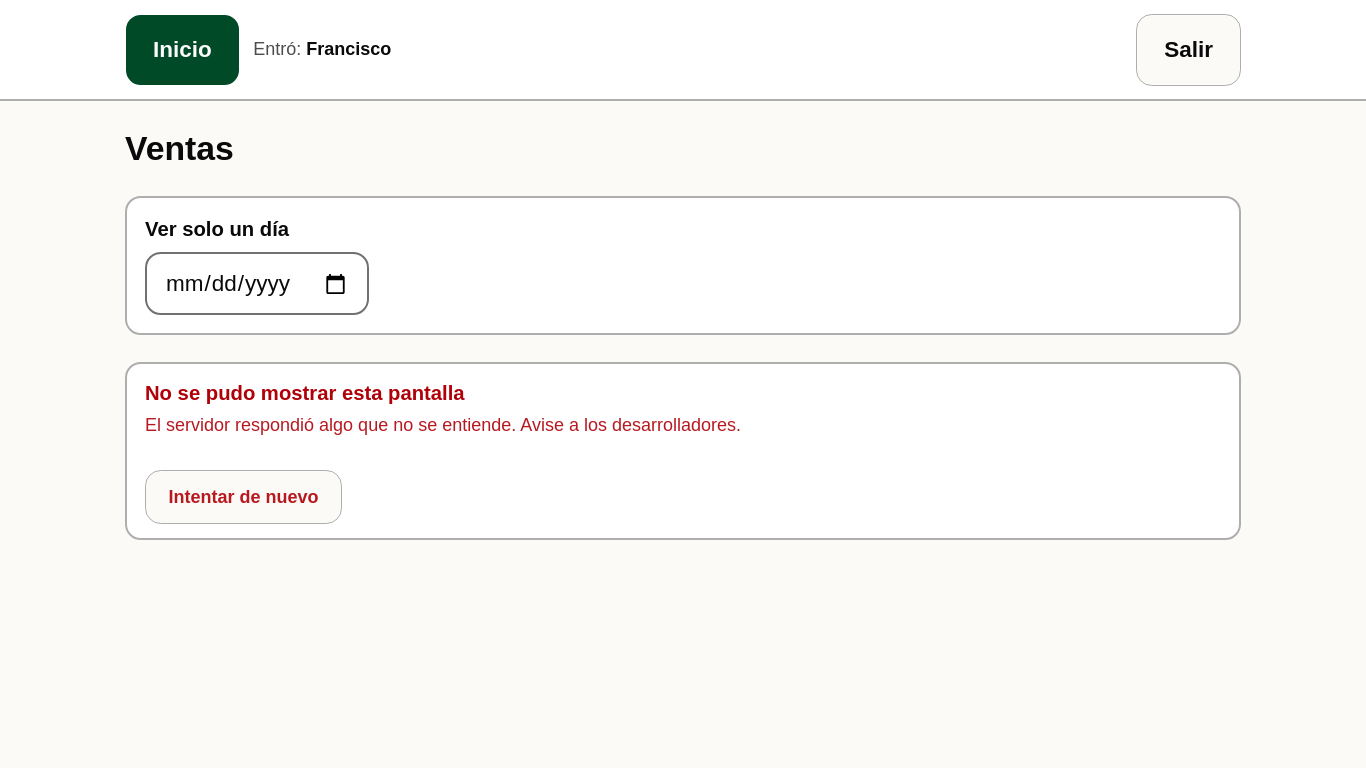
Test: lists › shows a Spanish error and a retry button when the response has the wrong shape
Expected: the text "El servidor respondió algo que no se entiende" is shown, [145,415,741,435]
Expected: the link "Inicio" is shown, [125,14,240,86]
Step 1. Click the button "Intentar de nuevo" → [244, 497], box [145,470,342,524]
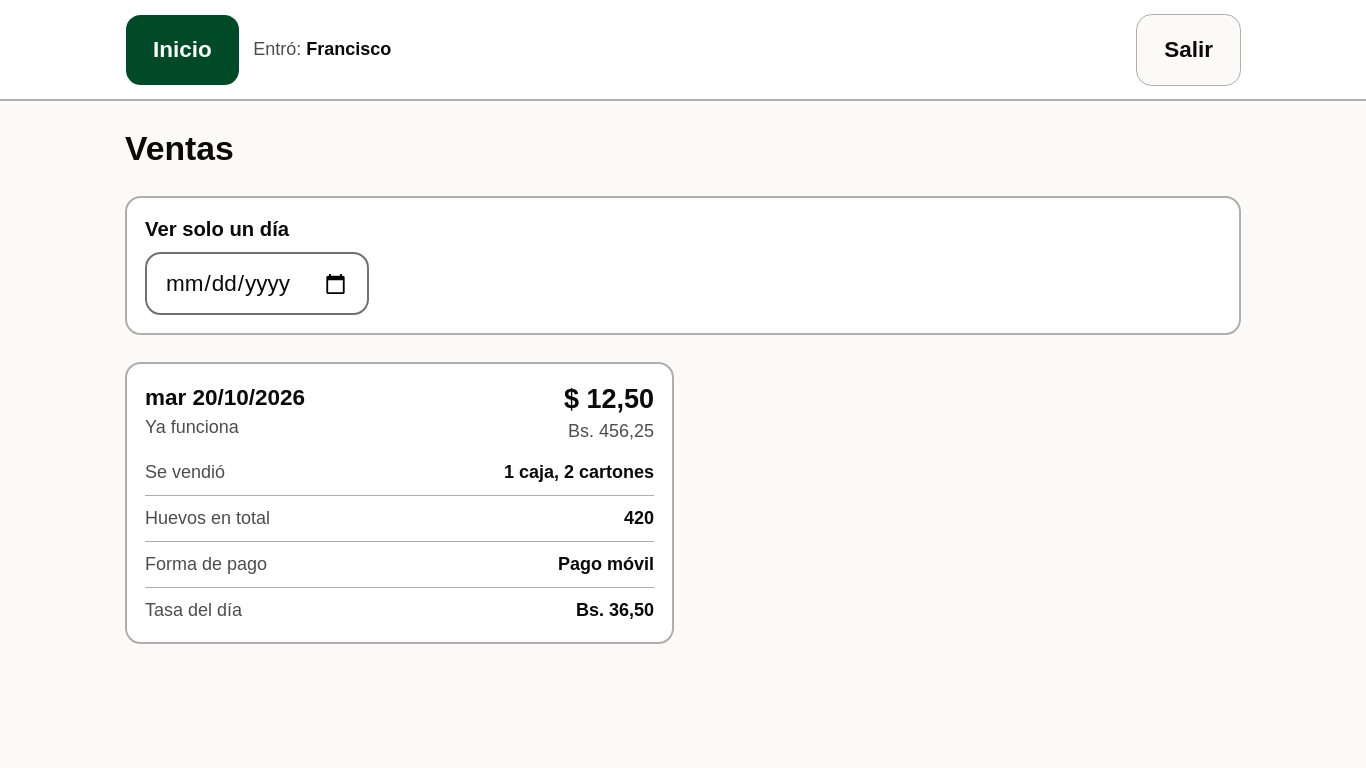
Expected: the text "Ya funciona" is shown, [145,417,239,437]
